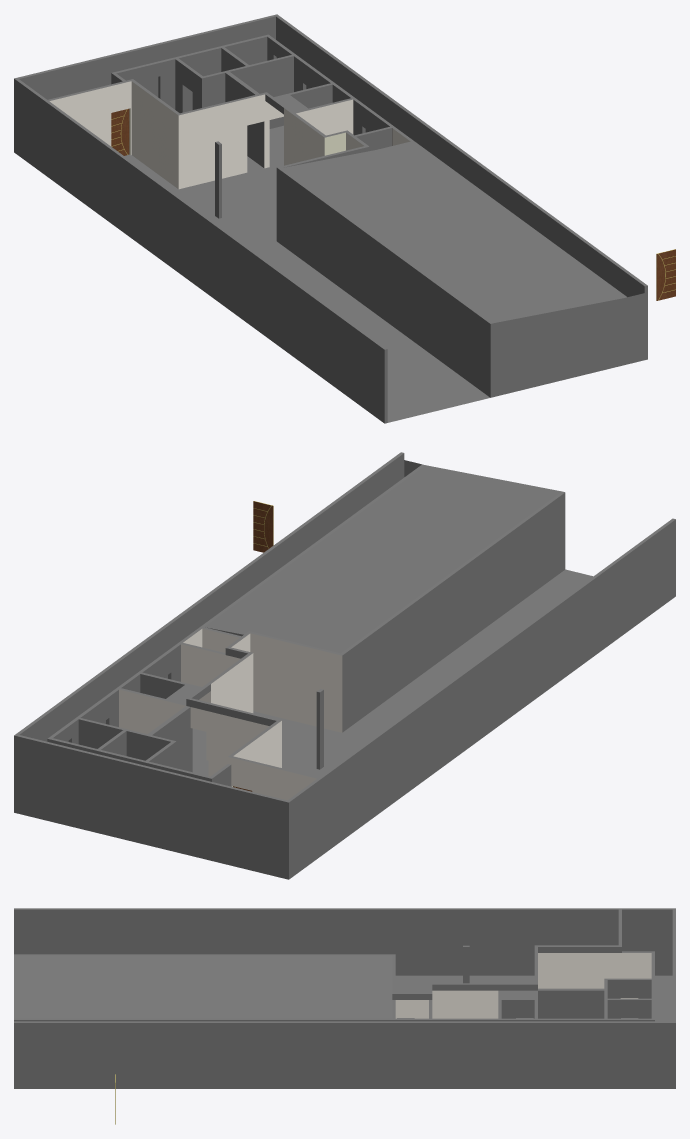
Rendered from projeto.glb.
3 renders of one model, top to bottom at view 1: azimuth 30°, elevation 25°; view 2: azimuth 150°, elevation 25°; view 3: azimuth 270°, elevation 25°, orthographic. The views are drawn at different scales.
Visible parts, largest first — view 1: root, porta, porta 01; view 2: root, porta 01; view 3: root.
Part boxes in pixels (x1=…): root: x1=14, y1=14, x2=647, y2=423; porta: x1=656, y1=249, x2=675, y2=300; porta 01: x1=111, y1=108, x2=129, y2=155; root: x1=14, y1=452, x2=675, y2=879; porta 01: x1=253, y1=501, x2=273, y2=552; root: x1=14, y1=908, x2=675, y2=1088.
Bounding box in the file's own units: 16.25 × 3.3 × 30.
Materials: 5 (2 with a texture image).
